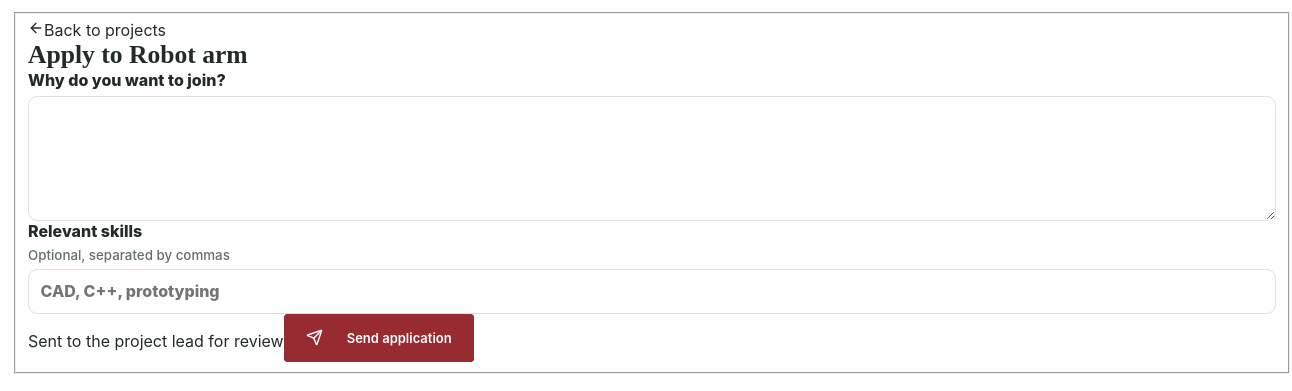
Member next actions › shows a successful application clearly and does not submit it twice
The width and height of the screenshot is (1292, 391).
Type "I would like to learn about mechanical design." into the text box labelled "Why do you want to join?". click: (652, 158)
box: [28, 96, 1276, 221]
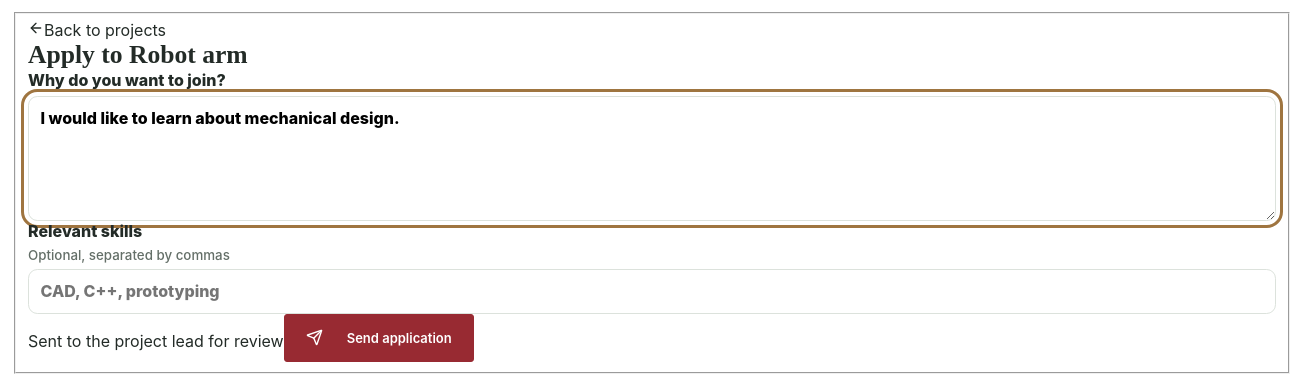
Click the button "Send application". click: (379, 338)
box: [284, 314, 474, 362]
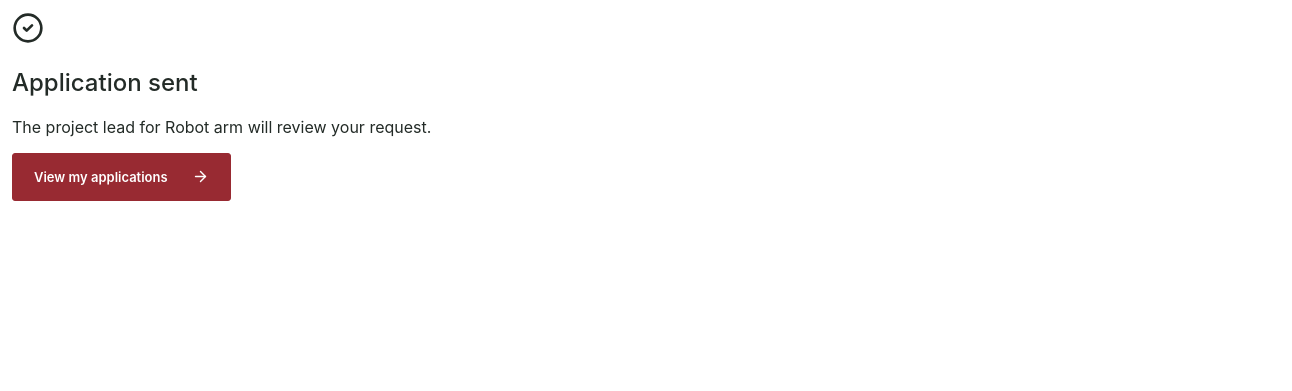
expect the heading "Application sent" is shown: met, box [12, 68, 198, 97]
expect the button "Send application" is gone: met
